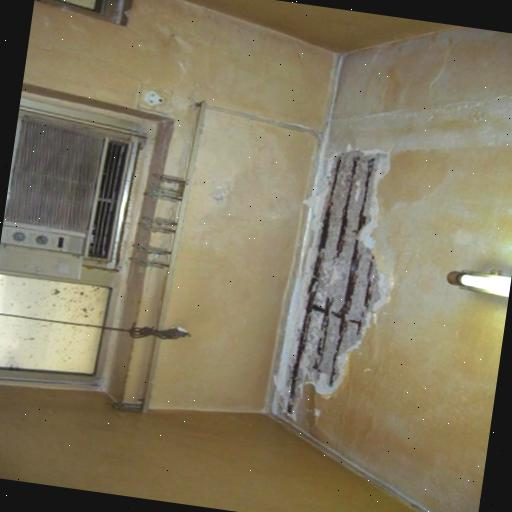spalling: (272, 144, 382, 422)
